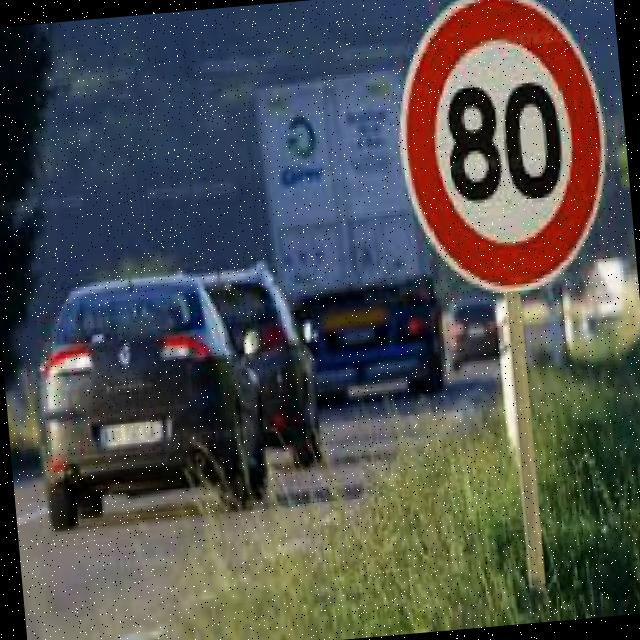Ograniczenie predkosci do 80: (382, 0, 619, 300)
